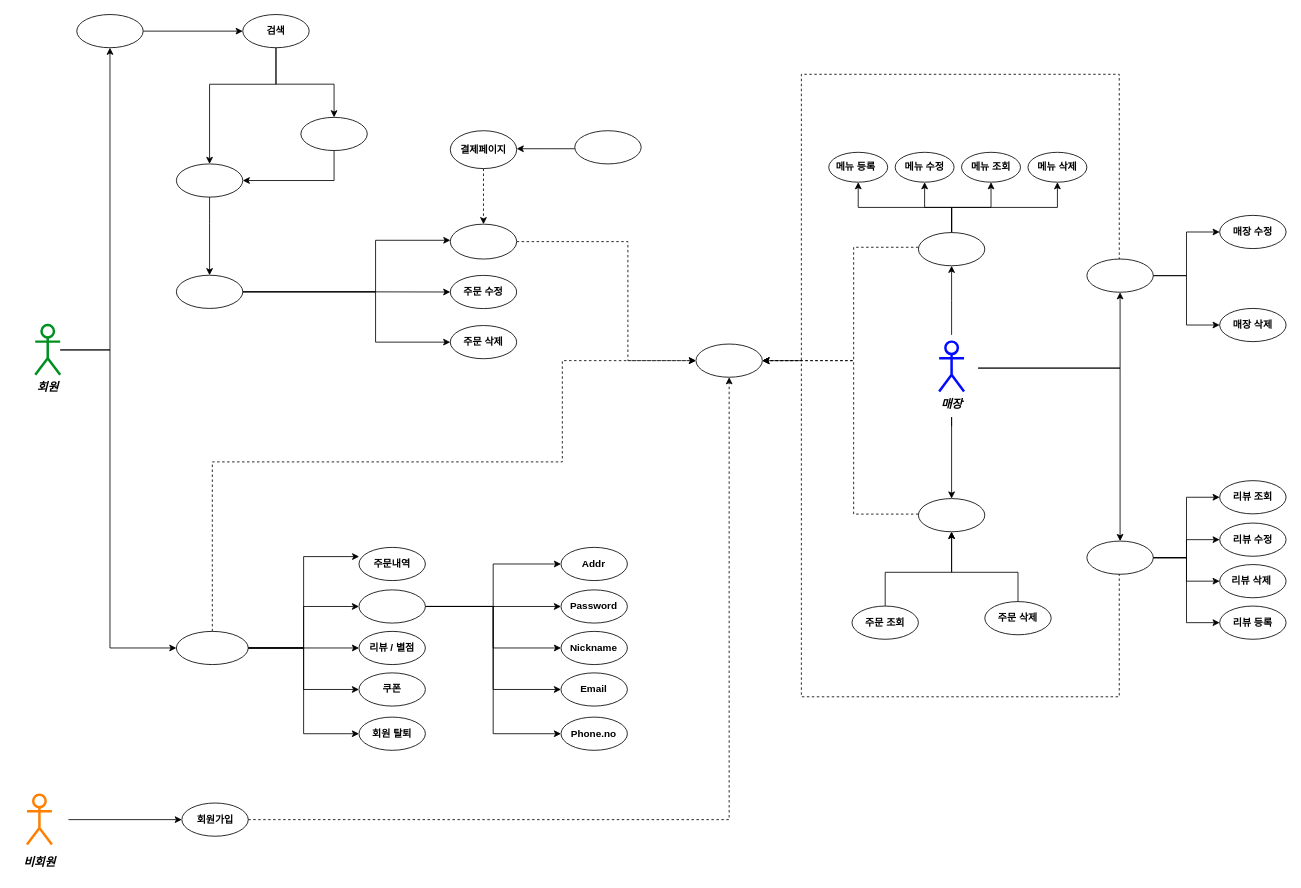
This 1301x888 diagram has some shape labels left out. Here are the shapes that lost their labels. From the top down, the centre of each, then its label:
At point 109,31: "주소입력?".
At point 333,134: "매장조회".
At point 607,147: "주문 상태".
At point 209,180: "메뉴조회".
At point 483,241: "주문하기".
At point 951,249: "메뉴관리".
At point 209,291: "장바구니 담기".
At point 1119,275: "매장 관리".
At point 728,360: "사용자인증".
At point 951,515: "주문 관리".
At point 1119,557: "리뷰 관리".
At point 391,606: "회원수정".
At point 212,648: "마이페이지".
